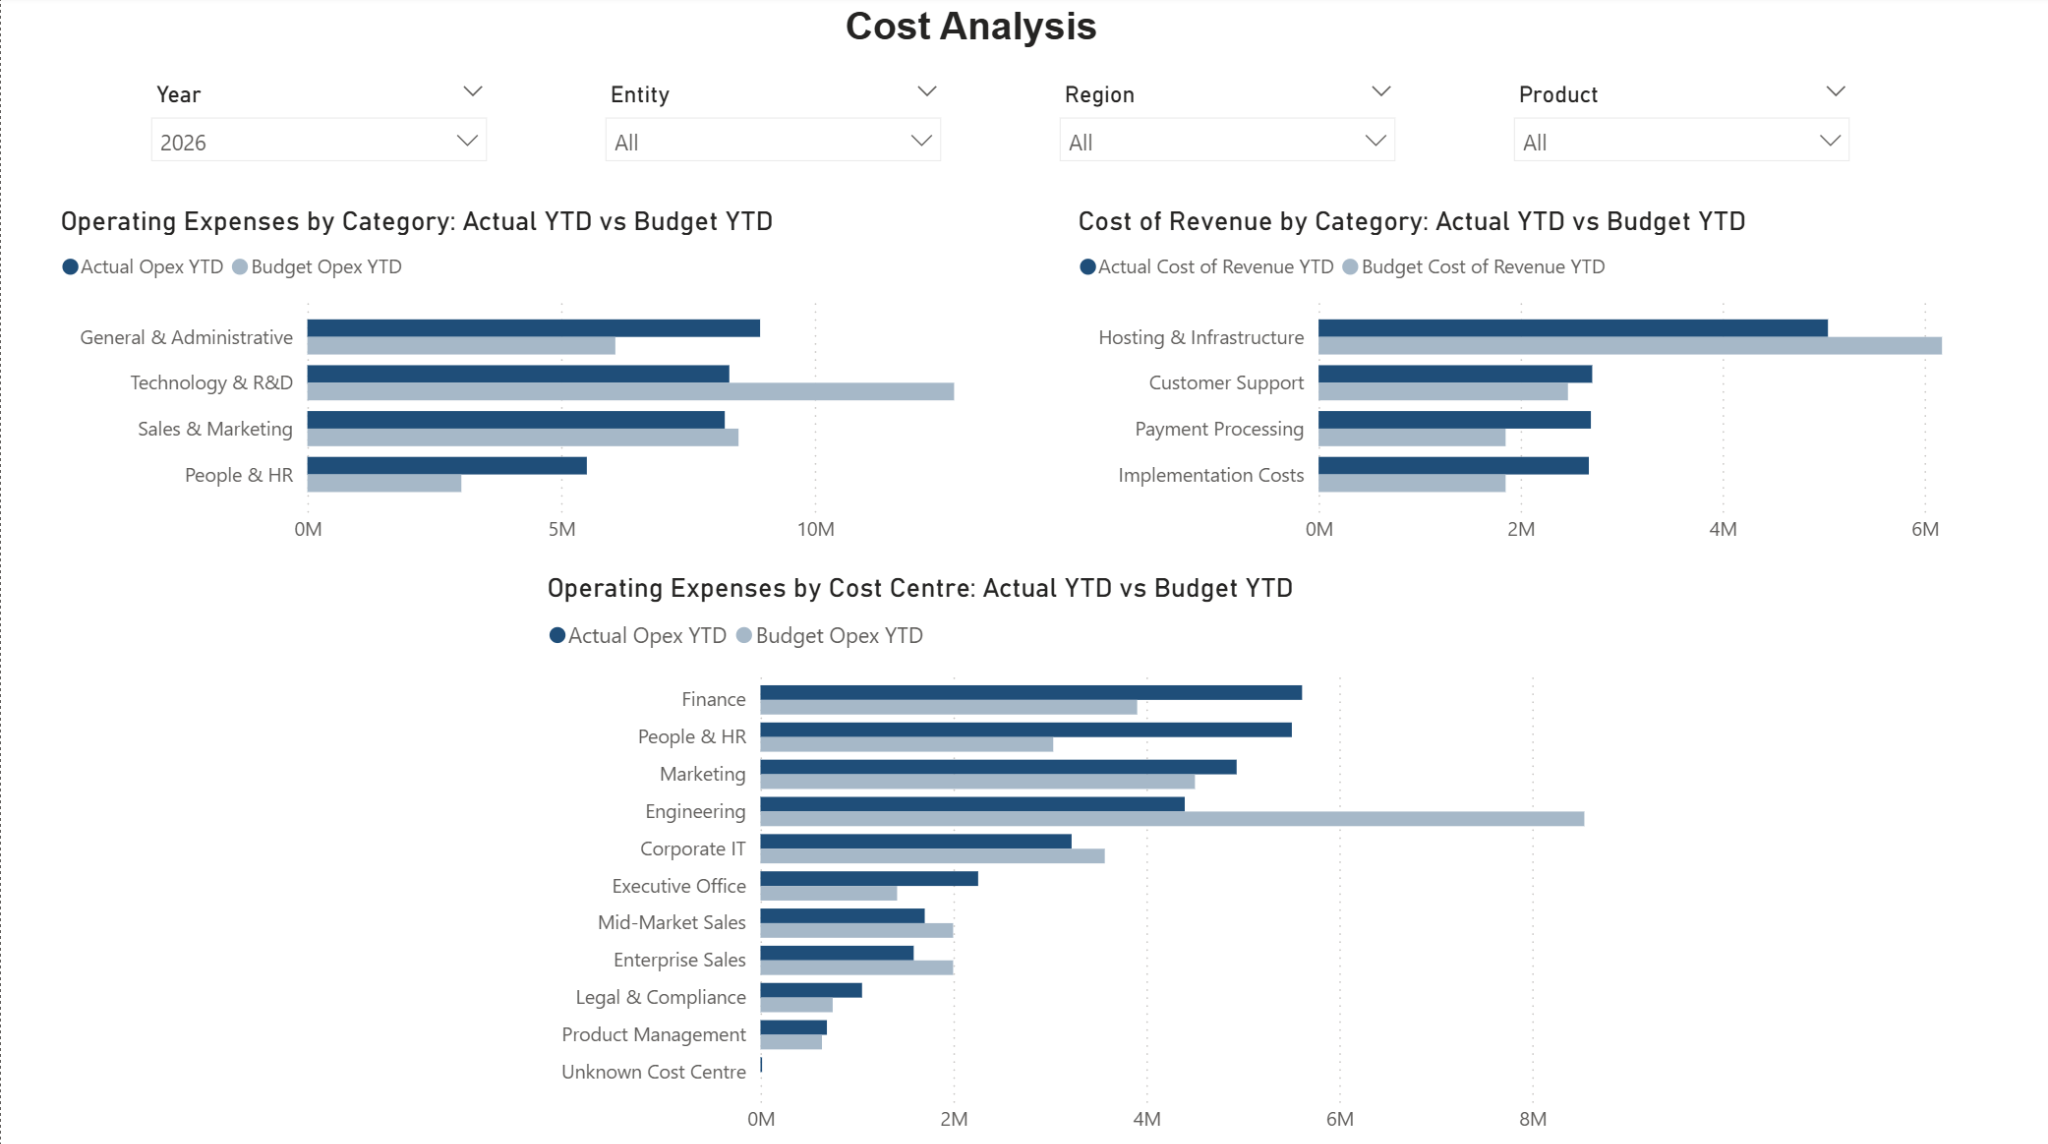

The page's visual inventory and layout, read from the dashboard file:
{"tool":"powerbi","page":{"name":"Cost Analysis","canvas":[1280,720],"ordinal":4},"visuals":[{"type":"textbox","box":[362.6,0,488.9,42.4],"z":0},{"type":"slicer","fields":{"Values":["dw DimDate.calendar_year"]},"box":[84.3,47.9,230,74],"z":1000},{"type":"slicer","fields":{"Values":["dw DimEntity.entity_name"]},"box":[368.3,47.9,230,74],"z":2000},{"type":"slicer","fields":{"Values":["dw DimRegion.region_name"]},"box":[652.2,47.9,230,74],"z":3000},{"type":"slicer","fields":{"Values":["dw DimProduct.product_name"]},"box":[936.1,47.9,230.3,74],"z":4000},{"type":"clusteredBarChart","title":"Operating Expenses by Cost Centre: Actual YTD vs Budget YTD","fields":{"Category":["dw DimCostCentre.cost_centre_name"],"Y":["_Measures.Actual Opex YTD","_Measures.Budget Opex YTD"]},"box":[336.4,359.6,694.9,360.6],"z":5000},{"type":"clusteredBarChart","title":"Operating Expenses by Category: Actual YTD vs Budget YTD","fields":{"Category":["dw DimAccount.pl_subcategory"],"Y":["_Measures.Actual Opex YTD","_Measures.Budget Opex YTD"]},"box":[32.3,130.3,620.2,221.2],"z":6000},{"type":"clusteredBarChart","title":"Cost of Revenue by Category: Actual YTD vs Budget YTD","fields":{"Category":["dw DimAccount.pl_subcategory"],"Y":["_Measures.Actual Cost of Revenue YTD","_Measures.Budget Cost of Revenue YTD"]},"box":[668.7,130.3,611.1,221.2],"z":7000}]}

Visuals, with their boxes in screenshot pixels (x1, y1, x2, y2), scaled from the page's 1280x720 canvas onto the 2048x1144 screenshot:
textbox: bbox(580, 0, 1362, 67)
slicer - dw DimDate.calendar_year: bbox(135, 76, 503, 194)
slicer - dw DimEntity.entity_name: bbox(589, 76, 957, 194)
slicer - dw DimRegion.region_name: bbox(1044, 76, 1412, 194)
slicer - dw DimProduct.product_name: bbox(1498, 76, 1866, 194)
"Operating Expenses by Cost Centre: Actual YTD vs Budget YTD" clusteredBarChart: bbox(538, 571, 1650, 1143)
"Operating Expenses by Category: Actual YTD vs Budget YTD" clusteredBarChart: bbox(52, 207, 1044, 558)
"Cost of Revenue by Category: Actual YTD vs Budget YTD" clusteredBarChart: bbox(1070, 207, 2047, 558)
